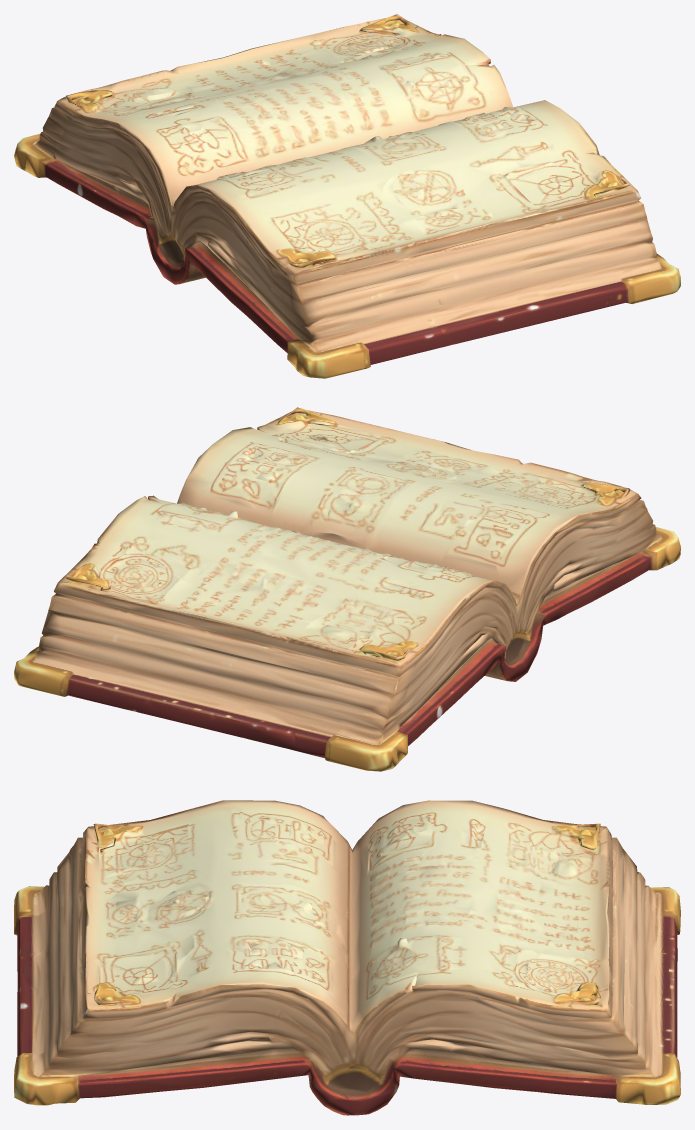
Rendered from open+spellbook+3d+model.fbx.
3 renders of one model, top to bottom at view 1: azimuth 30°, elevation 25°; view 2: azimuth 150°, elevation 25°; view 3: azimuth 270°, elevation 25°, orthographic. The views are drawn at different scales.
Parts seen in each view (by area): view 1: tripo_node_f25e312d; view 2: tripo_node_f25e312d; view 3: tripo_node_f25e312d.
Boxes of the visible parts, <box> form: tripo_node_f25e312d: <box>14,14,680,378</box>; tripo_node_f25e312d: <box>14,407,680,771</box>; tripo_node_f25e312d: <box>14,800,680,1115</box>.
Bounding box in the file's own units: 0.7122 × 0.2175 × 0.9998.
Materials: 1 (1 with a texture image).
